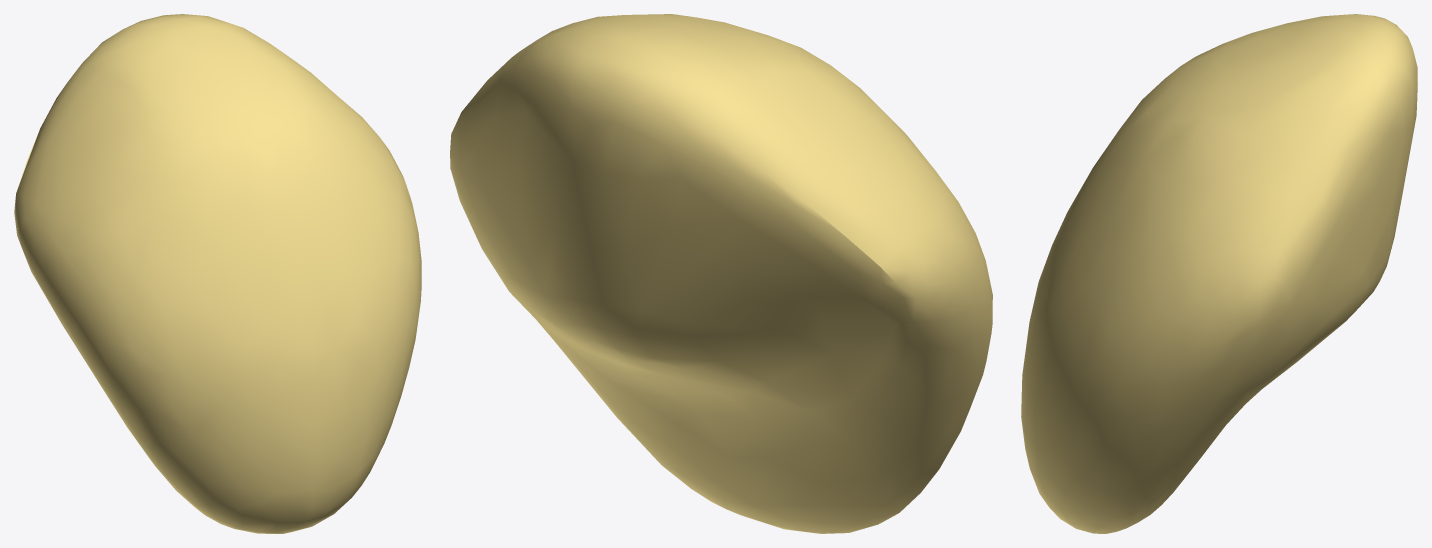
Rendered from fma83882_mm3220.glb.
3 views of the same model, side by side, from view 1: azimuth 30°, elevation 25°; view 2: azimuth 150°, elevation 25°; view 3: azimuth 270°, elevation 25° (orthographic). The views are drawn at different scales.
Parts seen in each view (by area): view 1: FMA83882_MM3220; view 2: FMA83882_MM3220; view 3: FMA83882_MM3220.
Boxes of the visible parts, x1,y1,x2,y2 form: FMA83882_MM3220: (14, 14, 421, 533); FMA83882_MM3220: (450, 14, 992, 533); FMA83882_MM3220: (1021, 14, 1417, 533).
Bounding box in the file's own units: 0.0101 × 0.0115 × 0.00849.
